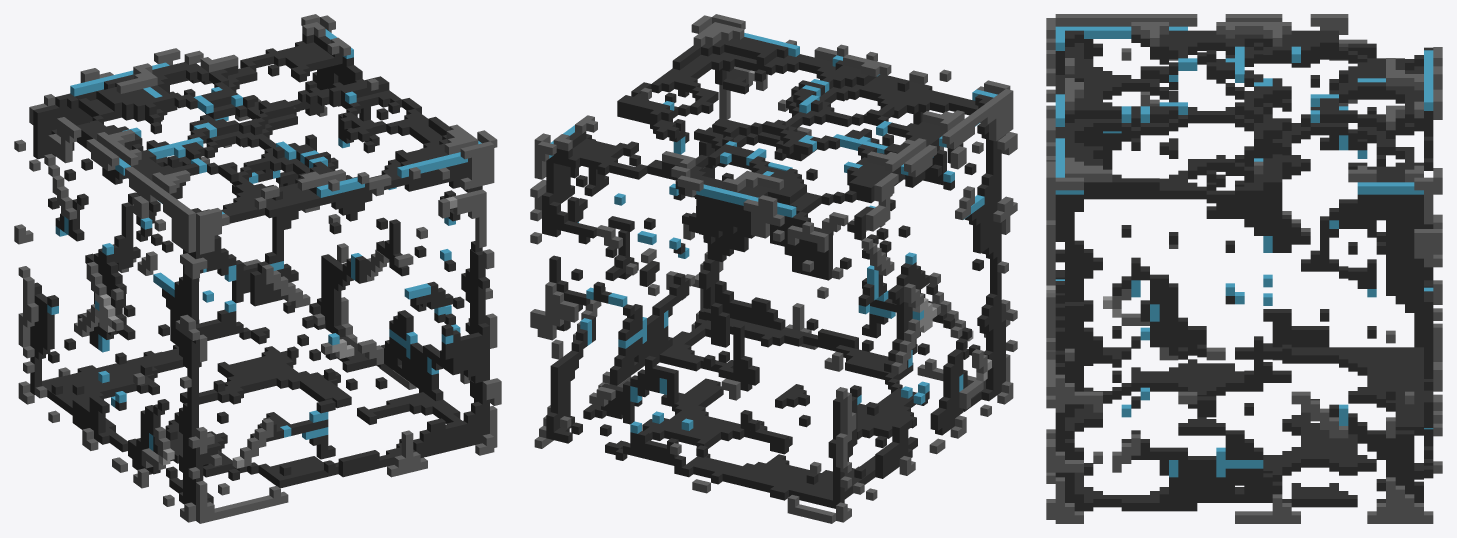
The model's file is space_crate_die3.obj.
The picture shows the model from 3 angles, left to right: view 1: azimuth 30°, elevation 25°; view 2: azimuth 150°, elevation 25°; view 3: azimuth 270°, elevation 25°; orthographic projection. The views are drawn at different scales.
Parts seen in each view (by area): view 1: space_crate_die3; view 2: space_crate_die3; view 3: space_crate_die3.
Part boxes in pixels (bbox=[...]): space_crate_die3: bbox=[14, 14, 501, 523]; space_crate_die3: bbox=[530, 14, 1017, 523]; space_crate_die3: bbox=[1046, 14, 1442, 523].
Bounding box in the file's own units: 42 × 40 × 42.
Materials: 1 (1 with a texture image).
